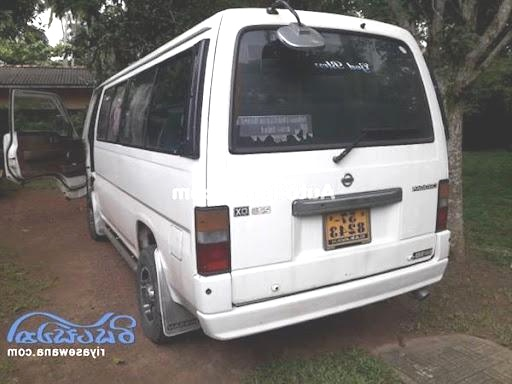van: (73, 1, 463, 338)
